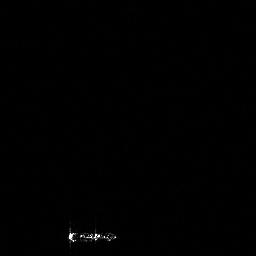ship: (65, 229, 118, 245)
